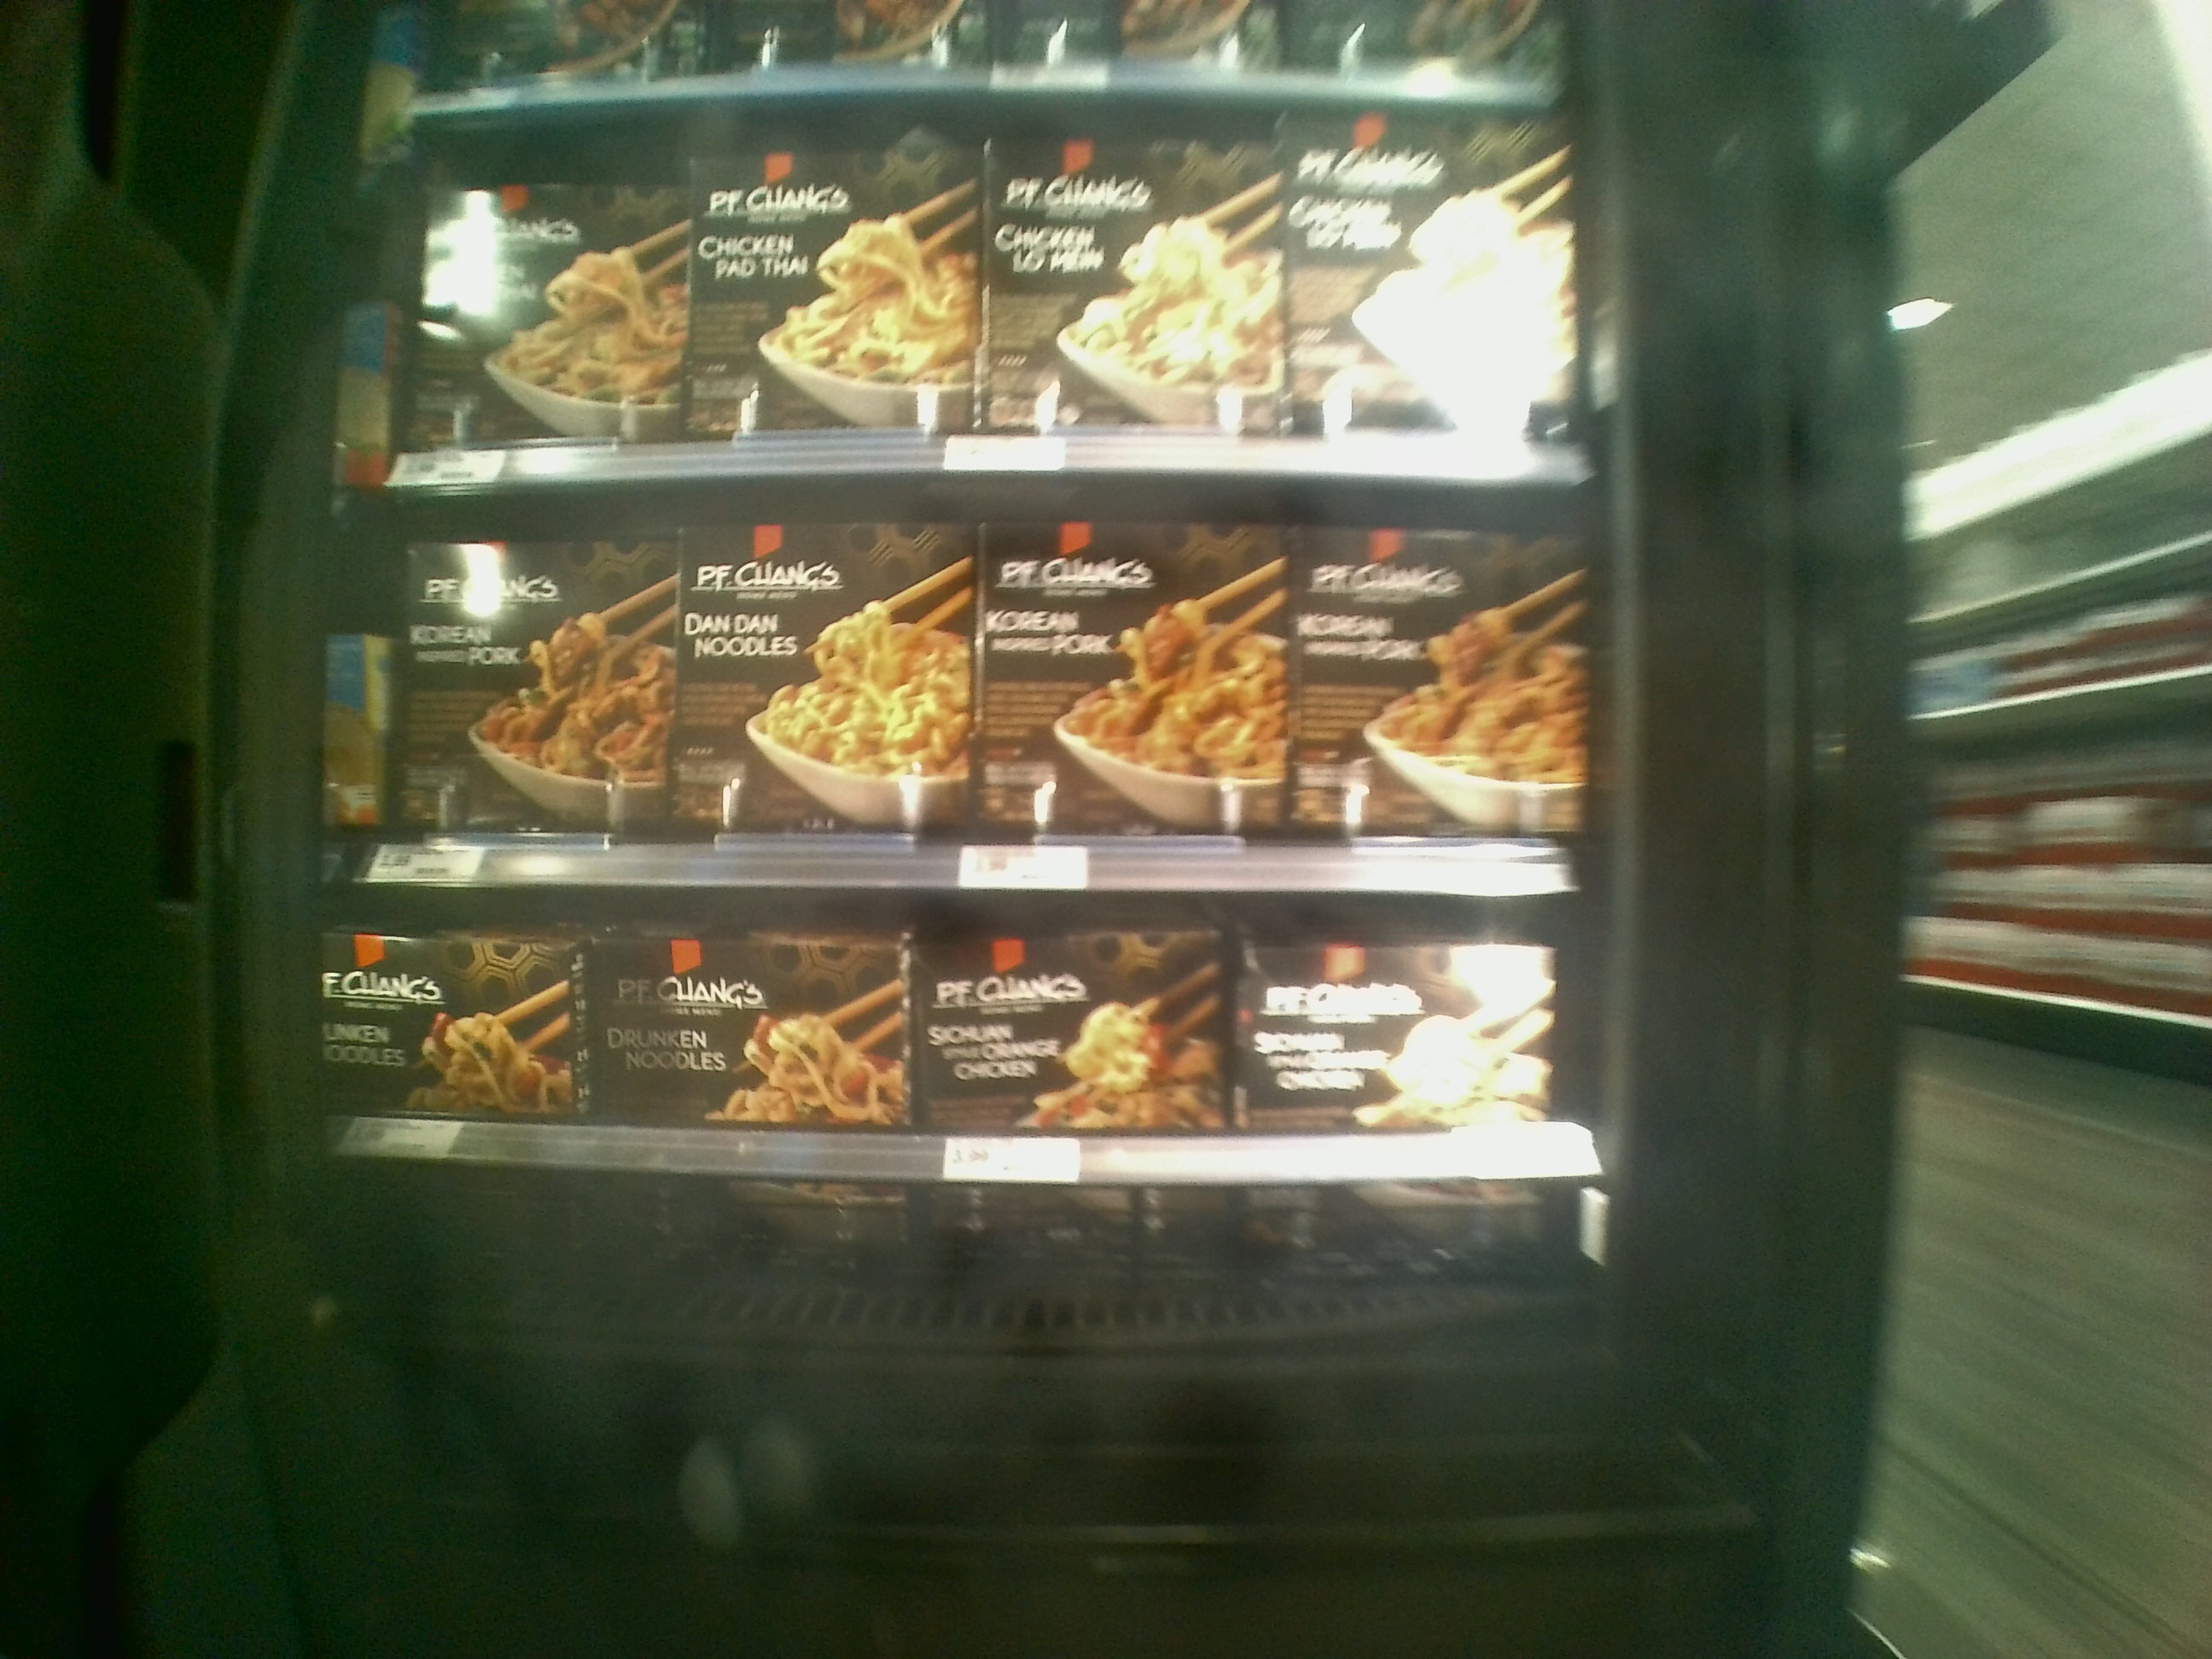shelf: (333, 887, 1601, 1345), (362, 471, 1587, 894), (408, 89, 1576, 483)
